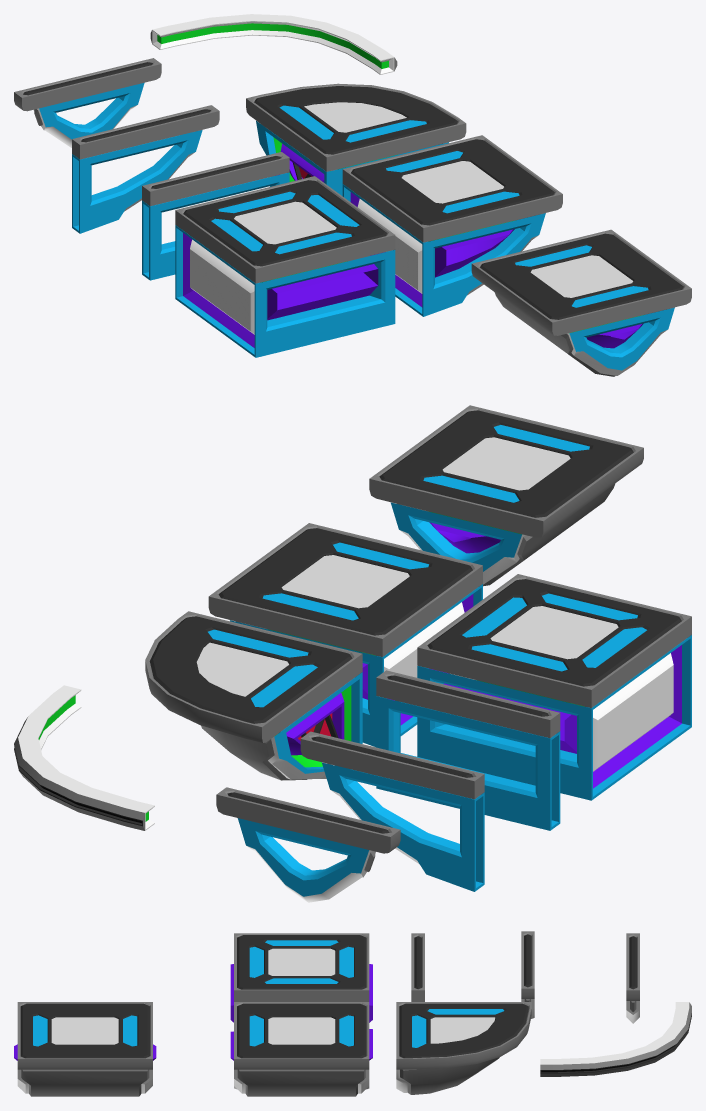
File: SpaceBase_Floors00.fbx
3 views of the same model, one above another, from view 1: azimuth 30°, elevation 25°; view 2: azimuth 150°, elevation 25°; view 3: azimuth 270°, elevation 25° (orthographic). The views are drawn at different scales.
Parts seen in each view (by area): view 1: Sphere003, Box003, Box002, Box014, Box001, Sphere002, Box018, Sphere006, Sphere004, Box015, Box016, Box017 (+7 smaller); view 2: Sphere003, Box003, Box002, Box014, Box001, Sphere006, Sphere005, Sphere004, Box018, Sphere001, Sphere007, Box015 (+7 smaller); view 3: Box003, Box002, Box014, Box001, Sphere002, Sphere004, Box018, BaseFloor01_5x5, BaseFloor03_5x5, BaseFloor00_5x5, Sphere001, BaseFloor02_5x5 (+5 smaller).
Part boxes in pixels (<box>): Sphere003: <box>175,225,395,357</box>; Box003: <box>175,176,395,283</box>; Box002: <box>342,135,562,242</box>; Box014: <box>471,229,691,335</box>; Box001: <box>246,83,466,171</box>; Sphere002: <box>342,184,545,316</box>; Box018: <box>150,14,397,74</box>; Sphere006: <box>72,130,202,233</box>; Sphere004: <box>494,292,674,376</box>; Box015: <box>142,152,289,206</box>; Box016: <box>72,105,219,159</box>; Box017: <box>14,58,161,111</box>; Sphere003: <box>417,635,691,800</box>; Box003: <box>417,574,691,707</box>; Box002: <box>208,523,482,656</box>; Box014: <box>369,405,643,537</box>; Box001: <box>145,611,362,742</box>; Sphere006: <box>322,762,484,891</box>; Sphere005: <box>376,696,560,830</box>; Sphere004: <box>390,484,614,586</box>; Box018: <box>14,685,154,830</box>; Sphere001: <box>201,672,362,780</box>; Sphere007: <box>237,818,375,902</box>; Box015: <box>376,670,560,738</box>; Box003: <box>234,933,369,1001</box>; Box002: <box>234,1002,369,1069</box>; Box014: <box>17,1002,152,1069</box>; Box001: <box>396,1002,531,1069</box>; Sphere002: <box>230,1029,372,1096</box>; Sphere004: <box>14,1044,156,1096</box>; Box018: <box>540,1002,691,1076</box>; BaseFloor01_5x5: <box>268,1017,335,1044</box>; BaseFloor03_5x5: <box>51,1017,118,1044</box>; BaseFloor00_5x5: <box>268,948,335,975</box>; Sphere001: <box>396,1057,499,1094</box>; BaseFloor02_5x5: <box>430,1017,495,1043</box>.
Bounding box in the file's own units: 118 × 31.65 × 251.
